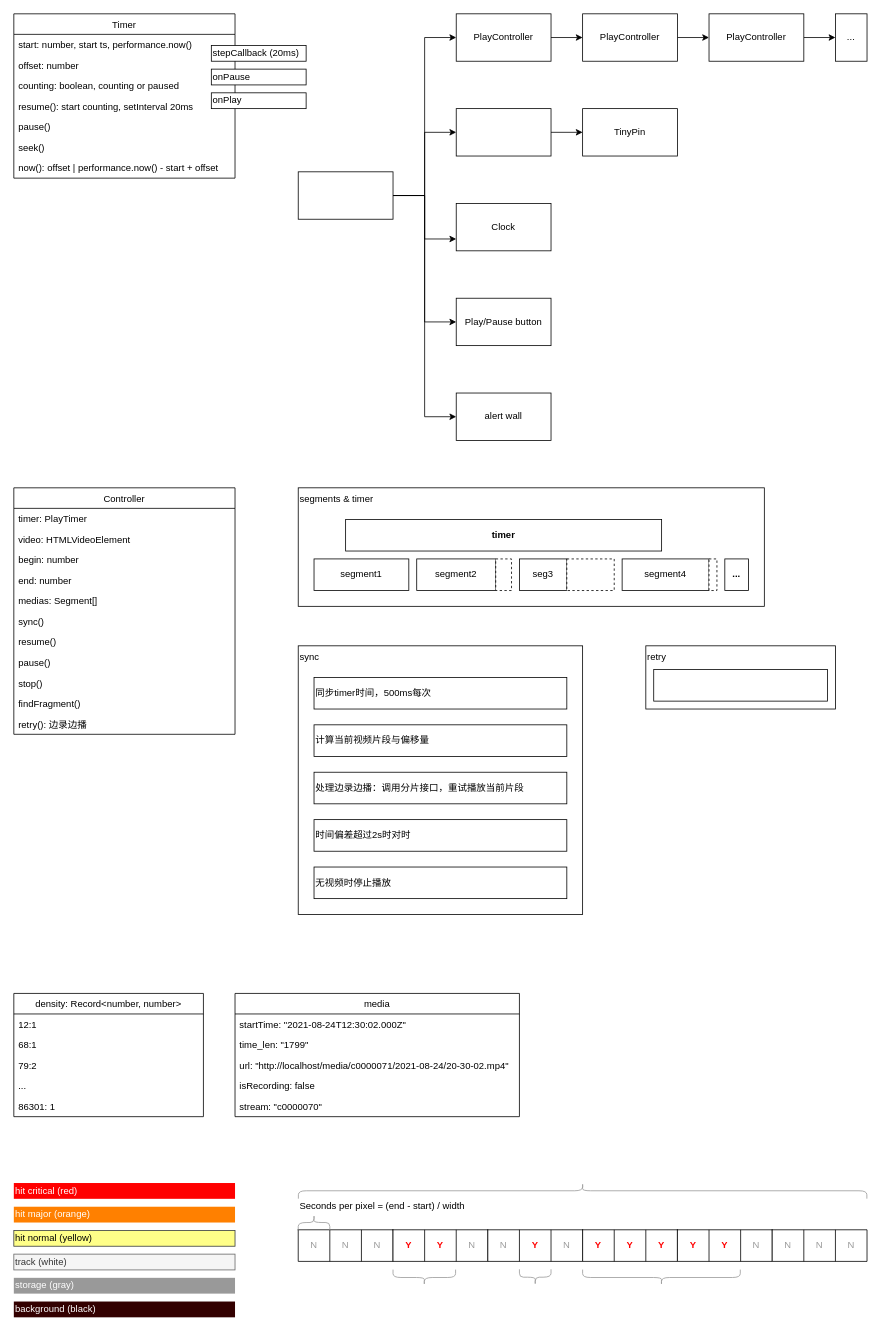
Image size: 881x1331. Some labels were removed from this diagram. Here are the shapes that lost their labels. From the top down, the centre of each, then its label:
At (503,132): "Pin".
At (345,195): "PlayTimer".
At (740,685): "按斐波那契数列延迟重试，7次后结束".
